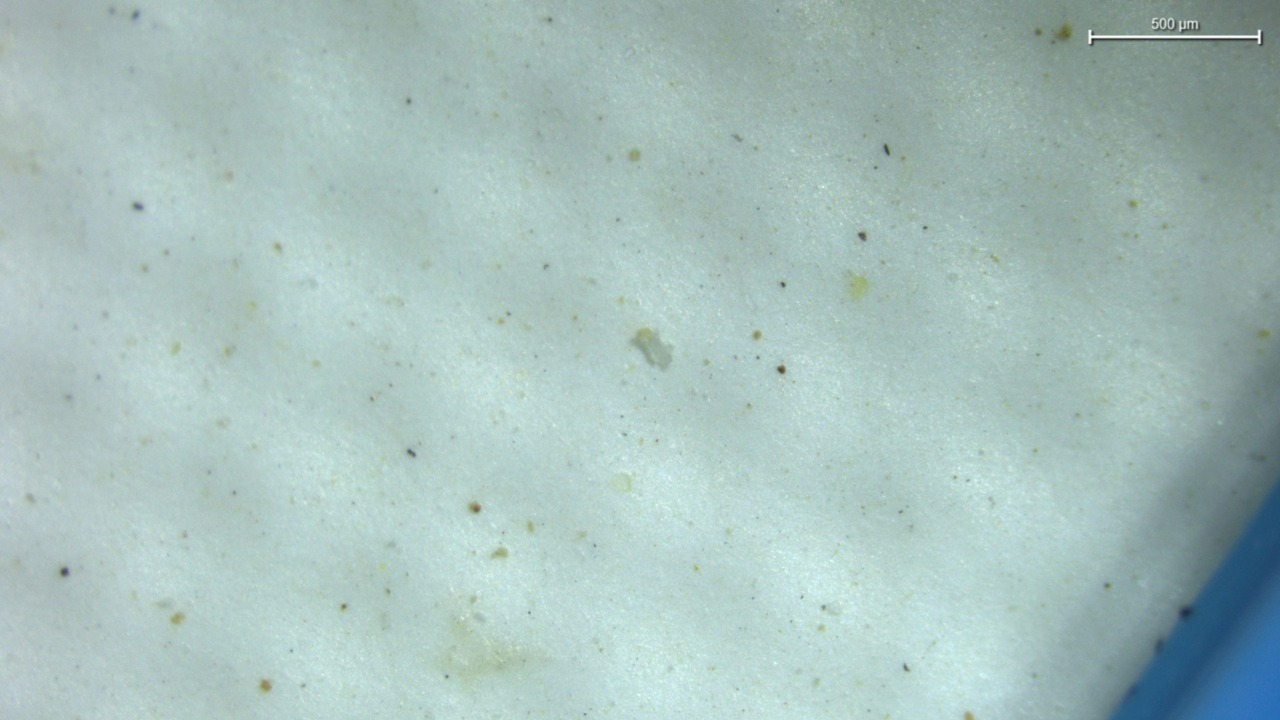microplastic_fragment: (631, 328, 672, 370)
